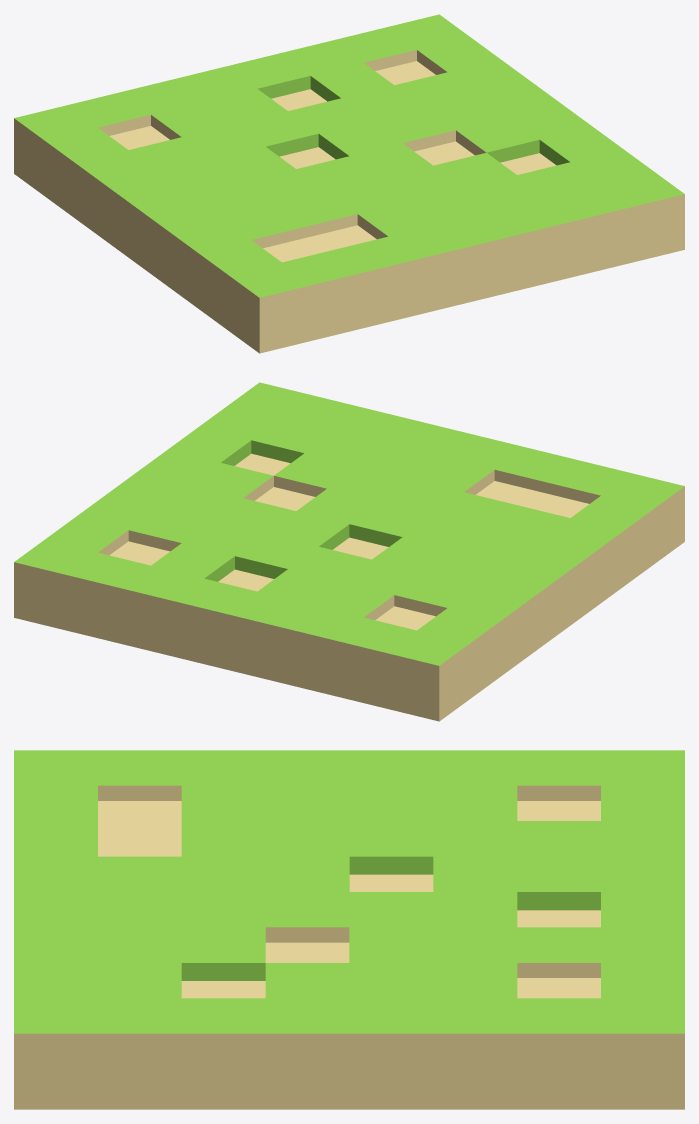
Rendered from Island2.fbx.
3 renders of one model, top to bottom at view 1: azimuth 30°, elevation 25°; view 2: azimuth 150°, elevation 25°; view 3: azimuth 270°, elevation 25°, orthographic. The views are drawn at different scales.
Parts seen in each view (by area): view 1: Cube; view 2: Cube; view 3: Cube.
Boxes of the visible parts, x1,y1,x2,y2 form: Cube: (14, 14, 684, 353); Cube: (14, 382, 684, 721); Cube: (14, 750, 684, 1109).
Size of the model in its own units: 100 by 12.5 by 100.
